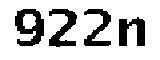2: (47, 7, 81, 50), (81, 7, 115, 50)
9: (10, 6, 46, 52)
n: (116, 14, 148, 49)
